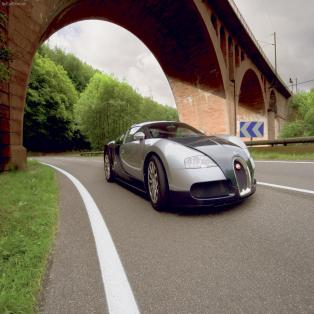Auto: (104, 121, 256, 211)
